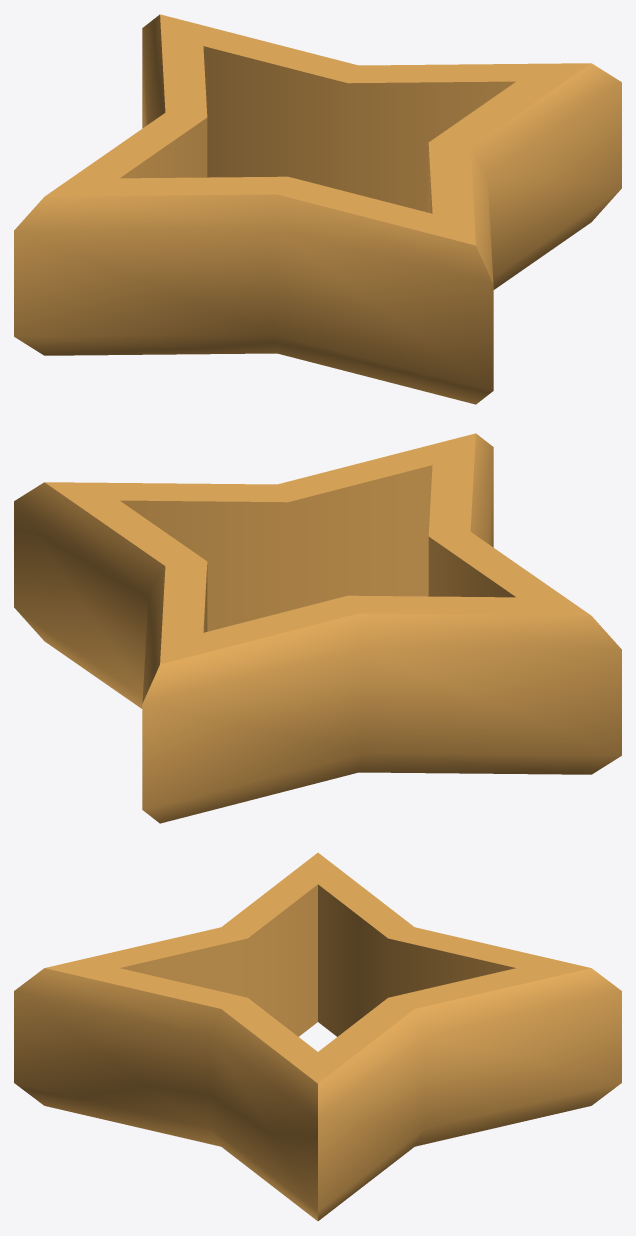
The model's file is Star_4P_06.fbx.
3 views of the same model, one above another, from view 1: azimuth 30°, elevation 25°; view 2: azimuth 150°, elevation 25°; view 3: azimuth 270°, elevation 25° (orthographic). The views are drawn at different scales.
Visible parts, largest first — view 1: Star_4P_06; view 2: Star_4P_06; view 3: Star_4P_06.
Boxes of the visible parts, x1,y1,x2,y2 form: Star_4P_06: (14,14,621,404); Star_4P_06: (14,433,621,823); Star_4P_06: (14,853,621,1220).
Size of the model in its own units: 400 by 100 by 400.
